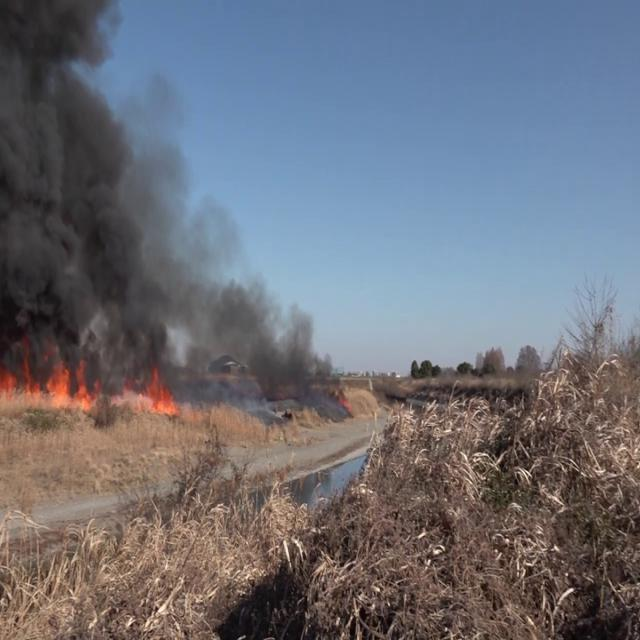Fire: (0, 340, 95, 410), (118, 358, 181, 417)
Smoke: (0, 1, 188, 373), (180, 250, 348, 406)
